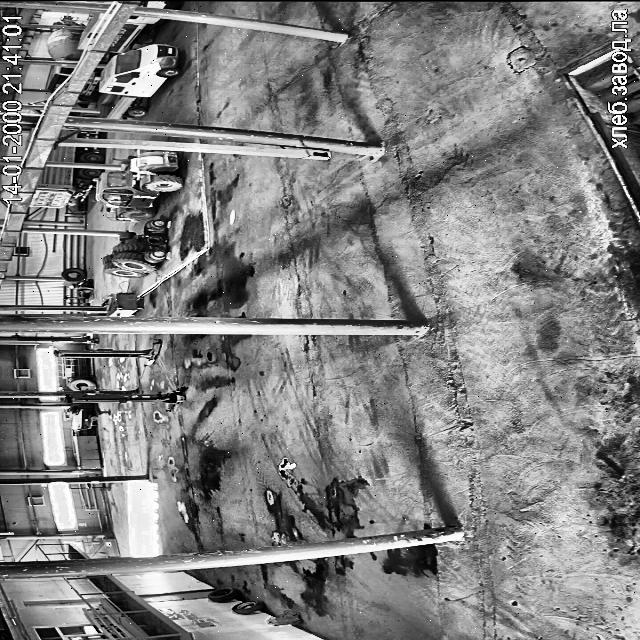class6: (96, 151, 182, 220), (102, 220, 165, 278)
class7: (100, 44, 180, 118), (28, 167, 100, 208), (108, 16, 158, 52), (46, 21, 82, 60), (49, 147, 102, 163), (80, 12, 102, 48), (77, 68, 100, 102), (45, 66, 73, 92), (60, 130, 98, 140), (140, 0, 180, 8)
truck: (52, 340, 161, 365), (66, 388, 186, 410)
